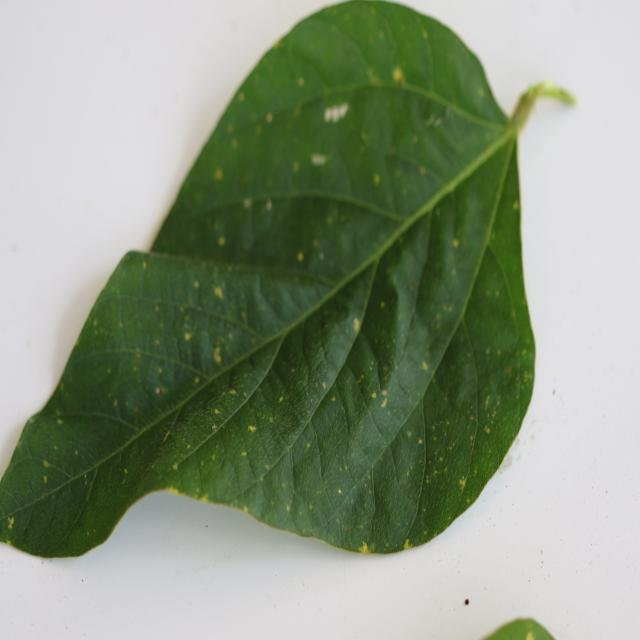Soybean: (0, 0, 574, 562)
downey_mildew: (154, 329, 296, 480), (412, 313, 483, 542), (350, 309, 430, 497), (357, 207, 438, 387), (104, 251, 308, 319), (408, 12, 507, 123), (206, 88, 345, 165), (277, 201, 405, 284), (116, 300, 277, 365), (50, 345, 178, 426), (355, 77, 502, 138), (226, 263, 345, 338), (0, 447, 88, 545), (468, 247, 519, 388), (324, 6, 408, 89), (491, 139, 530, 314), (501, 242, 534, 439), (337, 337, 400, 429), (287, 185, 430, 224), (111, 294, 170, 384), (294, 401, 337, 522), (341, 317, 387, 423), (251, 432, 299, 520), (379, 153, 445, 214), (39, 406, 141, 439), (401, 408, 425, 539), (83, 453, 102, 530)
